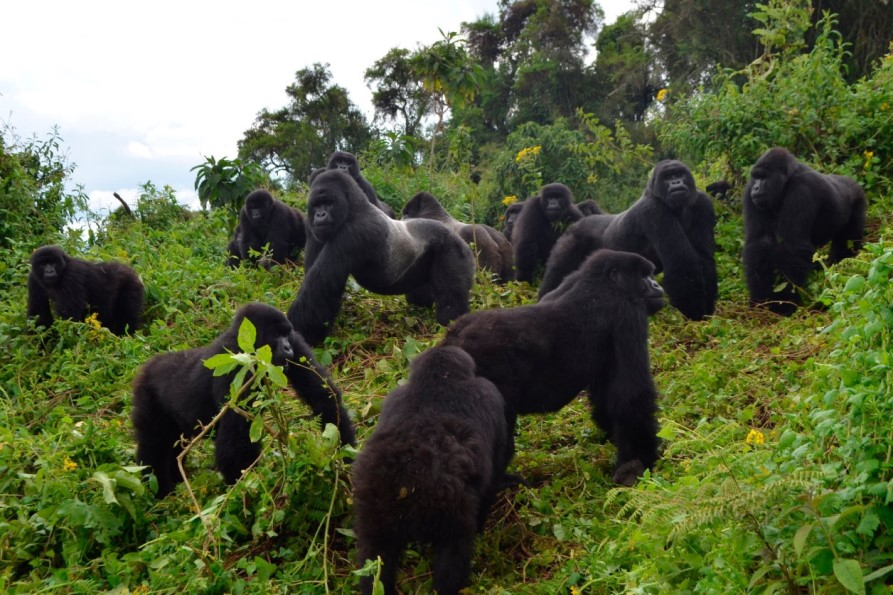Gorilla: (454, 253, 672, 474), (132, 314, 340, 478), (363, 357, 503, 579), (285, 173, 471, 328), (565, 161, 722, 311), (745, 152, 873, 288), (23, 240, 158, 338), (405, 195, 502, 288), (518, 180, 582, 282), (236, 183, 302, 269), (326, 149, 379, 189)
